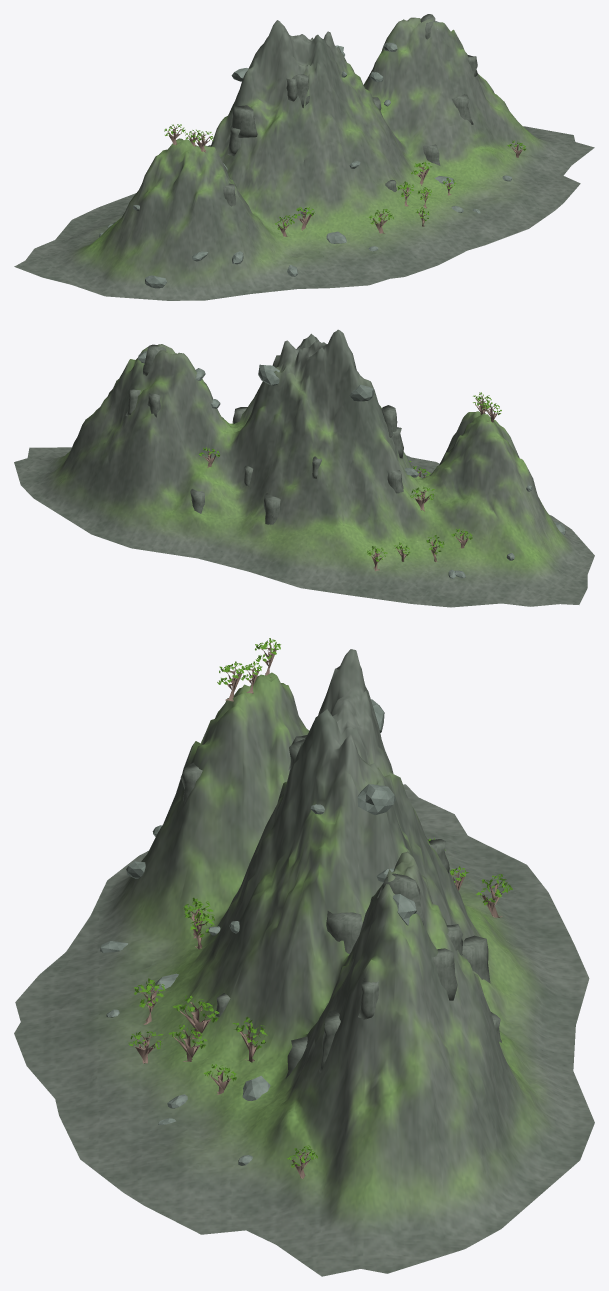
File: thien-mach.glb
3 renders of one model, top to bottom at view 1: azimuth 30°, elevation 25°; view 2: azimuth 150°, elevation 25°; view 3: azimuth 270°, elevation 25°, orthographic. The views are drawn at different scales.
Parts seen in each view (by area): view 1: Thiên Mạch · weathered mountain, Thiên Mạch fractured bedrock.012; view 2: Thiên Mạch · weathered mountain, Thiên Mạch fractured bedrock.005; view 3: Thiên Mạch · weathered mountain, Thiên Mạch fractured bedrock.017, Thiên Mạch talus.008, Thiên Mạch fractured bedrock.005, Thiên Mạch fractured bedrock.014.
Boxes of the visible parts, <box> form: Thiên Mạch · weathered mountain: <box>14,17,594,300</box>; Thiên Mạch fractured bedrock.012: <box>230,105,257,137</box>; Thiên Mạch · weathered mountain: <box>14,329,594,607</box>; Thiên Mạch fractured bedrock.005: <box>263,493,280,524</box>; Thiên Mạch · weathered mountain: <box>14,649,594,1276</box>; Thiên Mạch fractured bedrock.017: <box>326,911,362,953</box>; Thiên Mạch talus.008: <box>357,784,395,814</box>; Thiên Mạch fractured bedrock.005: <box>462,935,490,983</box>; Thiên Mạch fractured bedrock.014: <box>432,948,457,1000</box>.
Bounding box in the file's own units: 238 × 79.78 × 118.
4 materials, 4 textured.
